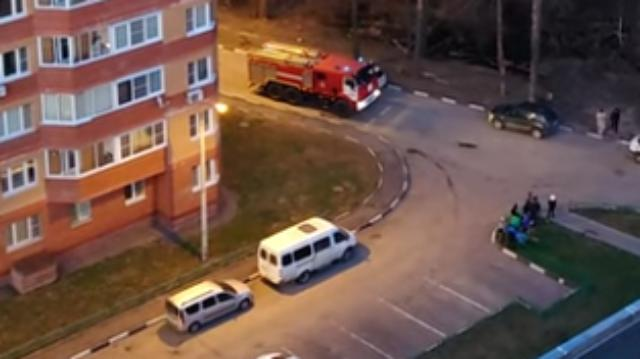fire fighting vehicle: (250, 40, 382, 119)
non emergency car: (260, 212, 356, 289), (167, 278, 250, 337), (491, 97, 560, 141)
